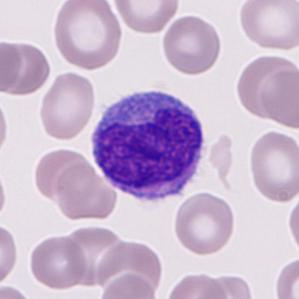Monocyte: (87, 83, 213, 207)
RBC: (49, 0, 124, 71), (171, 190, 237, 257), (233, 52, 296, 122), (37, 70, 98, 142), (92, 238, 165, 297), (159, 13, 224, 76), (53, 162, 119, 224), (247, 127, 298, 204), (26, 232, 89, 291), (31, 145, 91, 203), (236, 0, 298, 53), (0, 38, 53, 98), (257, 66, 299, 130), (110, 0, 182, 36), (163, 269, 228, 299), (97, 270, 159, 299), (62, 223, 124, 250), (207, 130, 235, 182), (204, 272, 256, 299), (0, 37, 24, 95), (0, 220, 21, 286), (273, 254, 299, 299), (285, 191, 299, 256), (0, 93, 11, 158), (0, 282, 34, 298), (0, 166, 8, 223)
